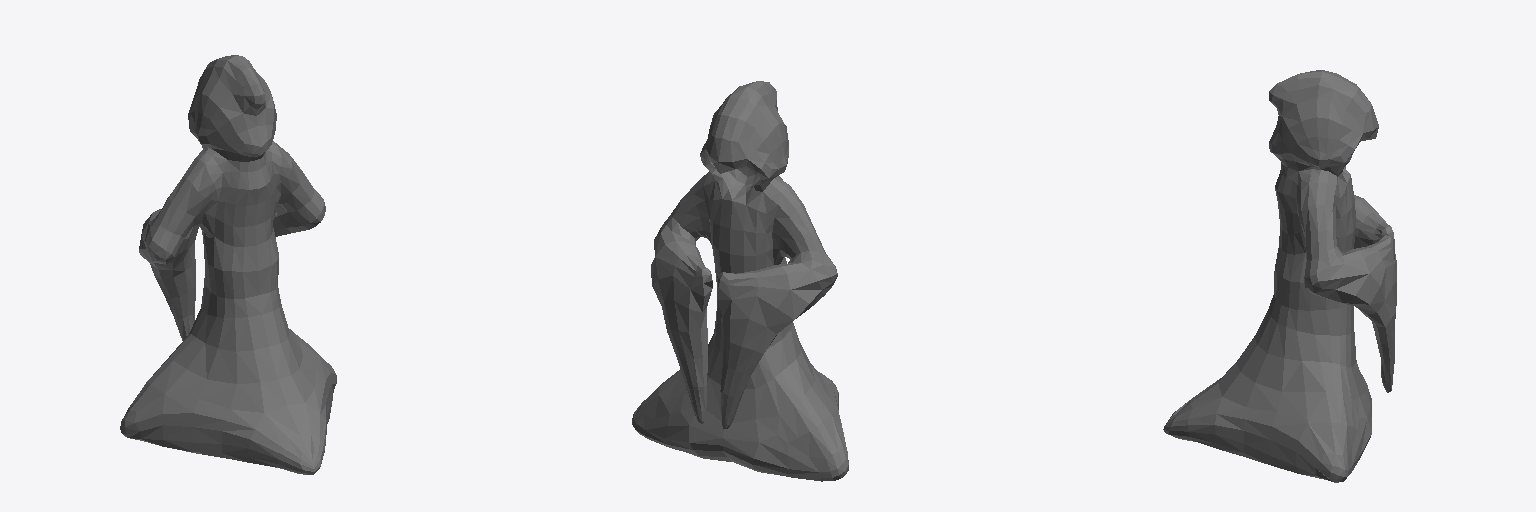
Rendered from Statue_TheTraveller.obj.
3 renders of one model, left to right at view 1: azimuth 30°, elevation 25°; view 2: azimuth 150°, elevation 25°; view 3: azimuth 270°, elevation 25°, orthographic.
Visible parts, largest first — view 1: TheTraveller group2; view 2: TheTraveller group2; view 3: TheTraveller group2.
Part boxes in pixels (x1,y1,x2,y2): TheTraveller group2: (120,55,336,474); TheTraveller group2: (632,81,848,481); TheTraveller group2: (1163,70,1396,482).
Size of the model in its own units: 0.6269 by 1.04 by 0.5944.